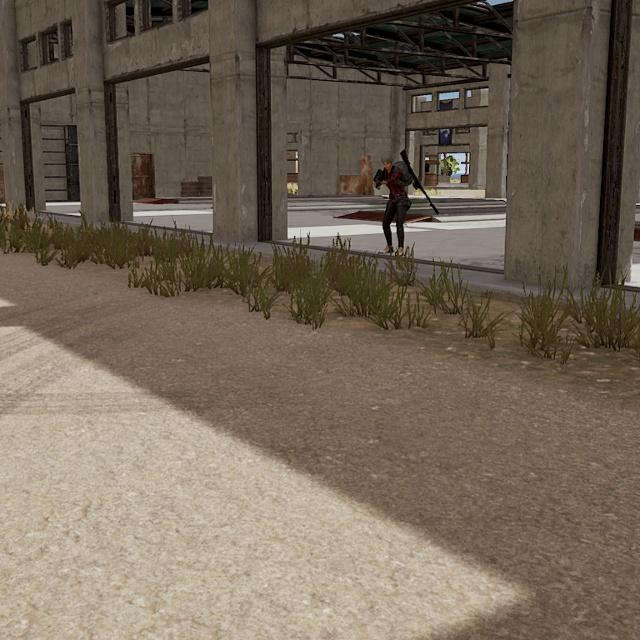head: (381, 152, 394, 172)
people: (374, 152, 413, 258)
